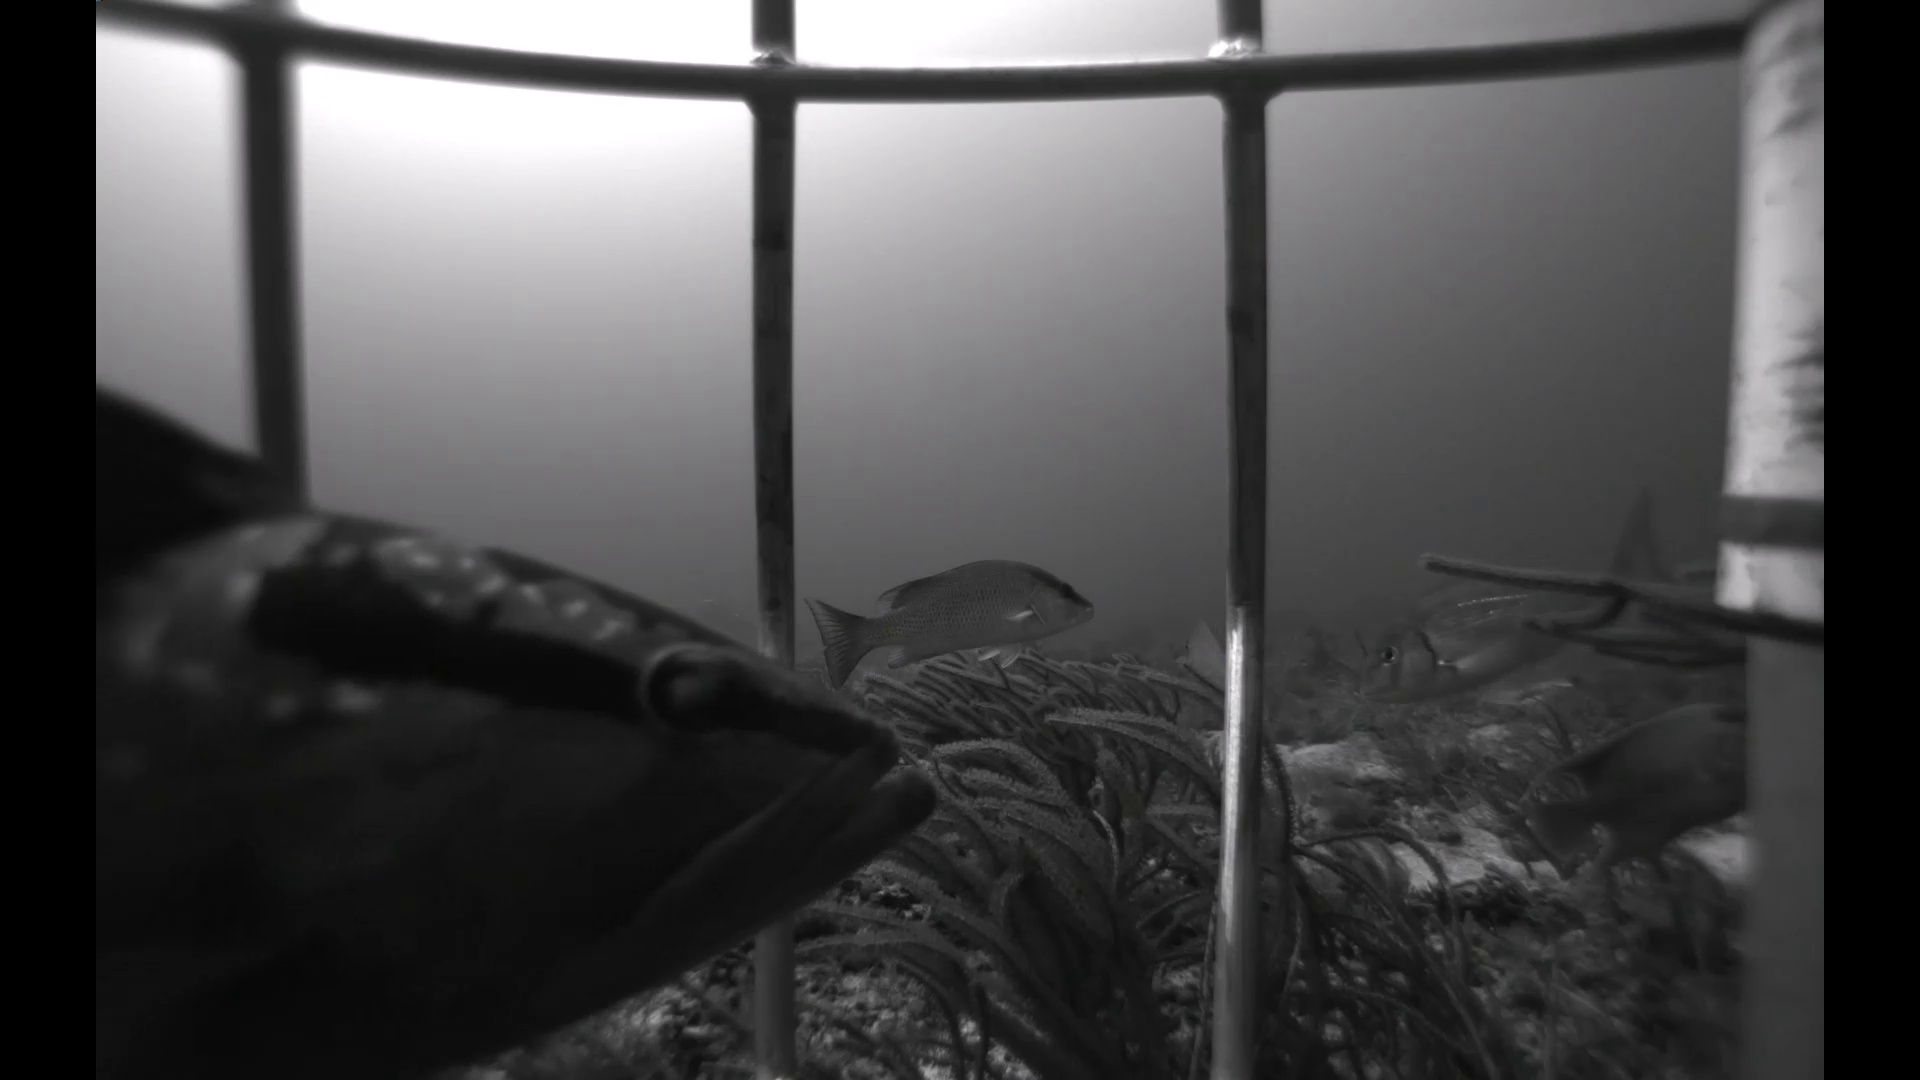CALAMUSNODOSUS-170210608: (1168, 611, 1226, 682)
EPINEPHELUSMORIO-170021211: (96, 367, 957, 1071)
HOLACANTHUSBERMUDENSIS-170290102: (1516, 694, 1753, 899)
LUTJANUSGRISEUS-170151109: (796, 553, 1104, 702), (1472, 603, 1665, 711)
PAGRUSPAGRUS-170212302: (1338, 473, 1726, 731)
